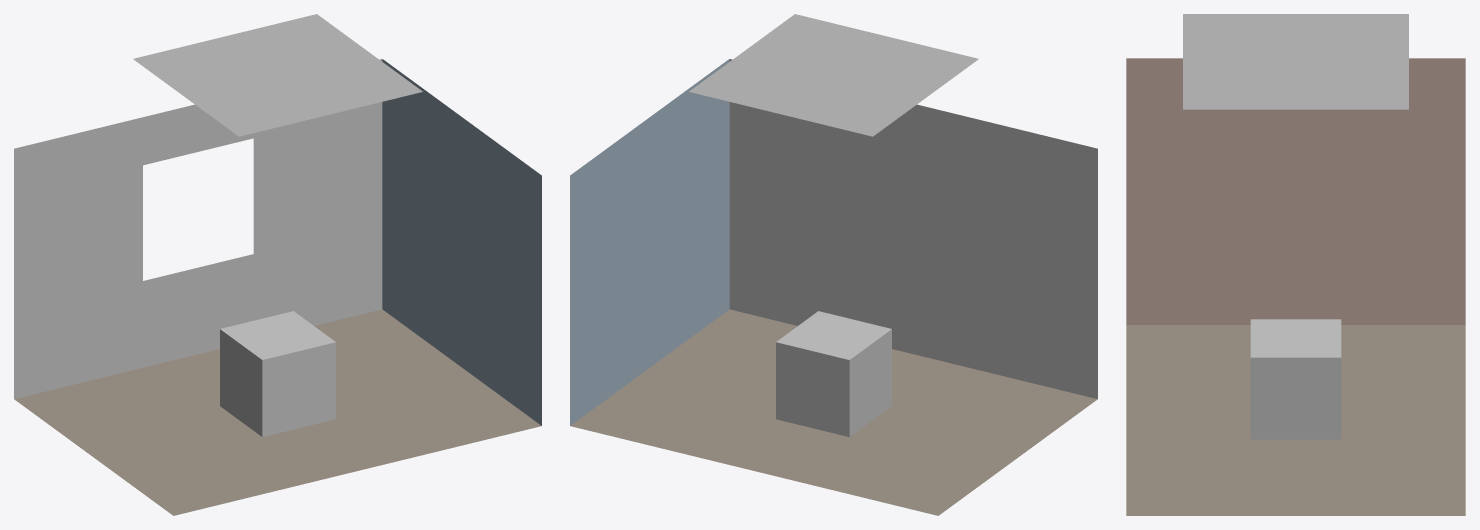
Rendered from shell.glb.
3 views of the same model, side by side, from view 1: azimuth 30°, elevation 25°; view 2: azimuth 150°, elevation 25°; view 3: azimuth 270°, elevation 25° (orthographic). The views are drawn at different scales.
Visible parts, largest first — view 1: 01a1681e-1f1f-7705-946c-06cf96ac0f9f, 01a1681e-1f1b-77dc-bf9e-f33804e97334, 01a1681e-1f26-7403-86a8-b6cc9802c4dd, 01a1681e-1f28-7402-afeb-55cf05fba85a, 01a1681e-1f2a-7791-9b17-4b922ebce65f; view 2: 01a1681e-1f21-75df-af9d-54123b4b300f, 01a1681e-1f1b-77dc-bf9e-f33804e97334, 01a1681e-1f26-7403-86a8-b6cc9802c4dd, 01a1681e-1f28-7402-afeb-55cf05fba85a, 01a1681e-1f2a-7791-9b17-4b922ebce65f; view 3: 01a1681e-1f23-7008-a579-f712dbe15836, 01a1681e-1f1b-77dc-bf9e-f33804e97334, 01a1681e-1f28-7402-afeb-55cf05fba85a, 01a1681e-1f2a-7791-9b17-4b922ebce65f.
Part boxes in pixels (left/top/right/bottom): 01a1681e-1f1f-7705-946c-06cf96ac0f9f: left=14, top=59, right=382, bottom=398; 01a1681e-1f1b-77dc-bf9e-f33804e97334: left=14, top=309, right=541, bottom=515; 01a1681e-1f26-7403-86a8-b6cc9802c4dd: left=382, top=59, right=541, bottom=425; 01a1681e-1f28-7402-afeb-55cf05fba85a: left=133, top=14, right=422, bottom=136; 01a1681e-1f2a-7791-9b17-4b922ebce65f: left=220, top=311, right=335, bottom=436; 01a1681e-1f21-75df-af9d-54123b4b300f: left=729, top=59, right=1097, bottom=398; 01a1681e-1f1b-77dc-bf9e-f33804e97334: left=570, top=309, right=1097, bottom=515; 01a1681e-1f26-7403-86a8-b6cc9802c4dd: left=570, top=59, right=729, bottom=425; 01a1681e-1f28-7402-afeb-55cf05fba85a: left=689, top=14, right=978, bottom=136; 01a1681e-1f2a-7791-9b17-4b922ebce65f: left=776, top=311, right=891, bottom=436; 01a1681e-1f23-7008-a579-f712dbe15836: left=1126, top=58, right=1465, bottom=324; 01a1681e-1f1b-77dc-bf9e-f33804e97334: left=1126, top=325, right=1465, bottom=515; 01a1681e-1f28-7402-afeb-55cf05fba85a: left=1183, top=14, right=1408, bottom=109; 01a1681e-1f2a-7791-9b17-4b922ebce65f: left=1250, top=319, right=1341, bottom=439.
Bounding box in the file's own units: 4 × 3.5 × 3.
